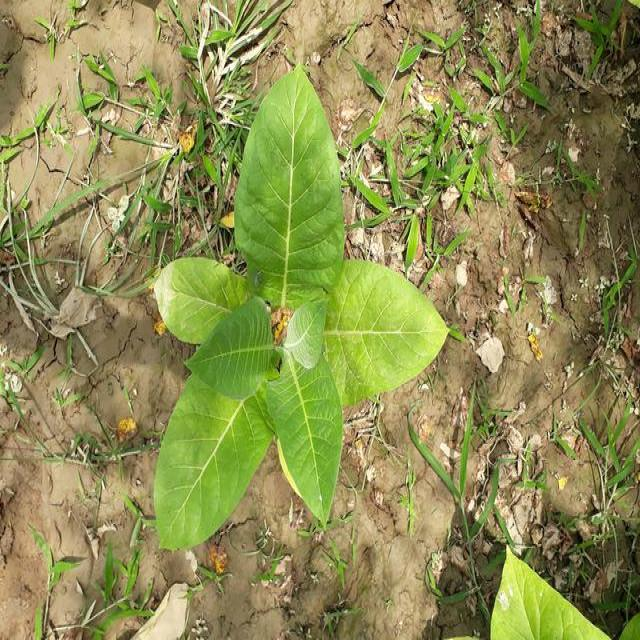crop: (154, 80, 450, 548), (482, 551, 586, 640)
